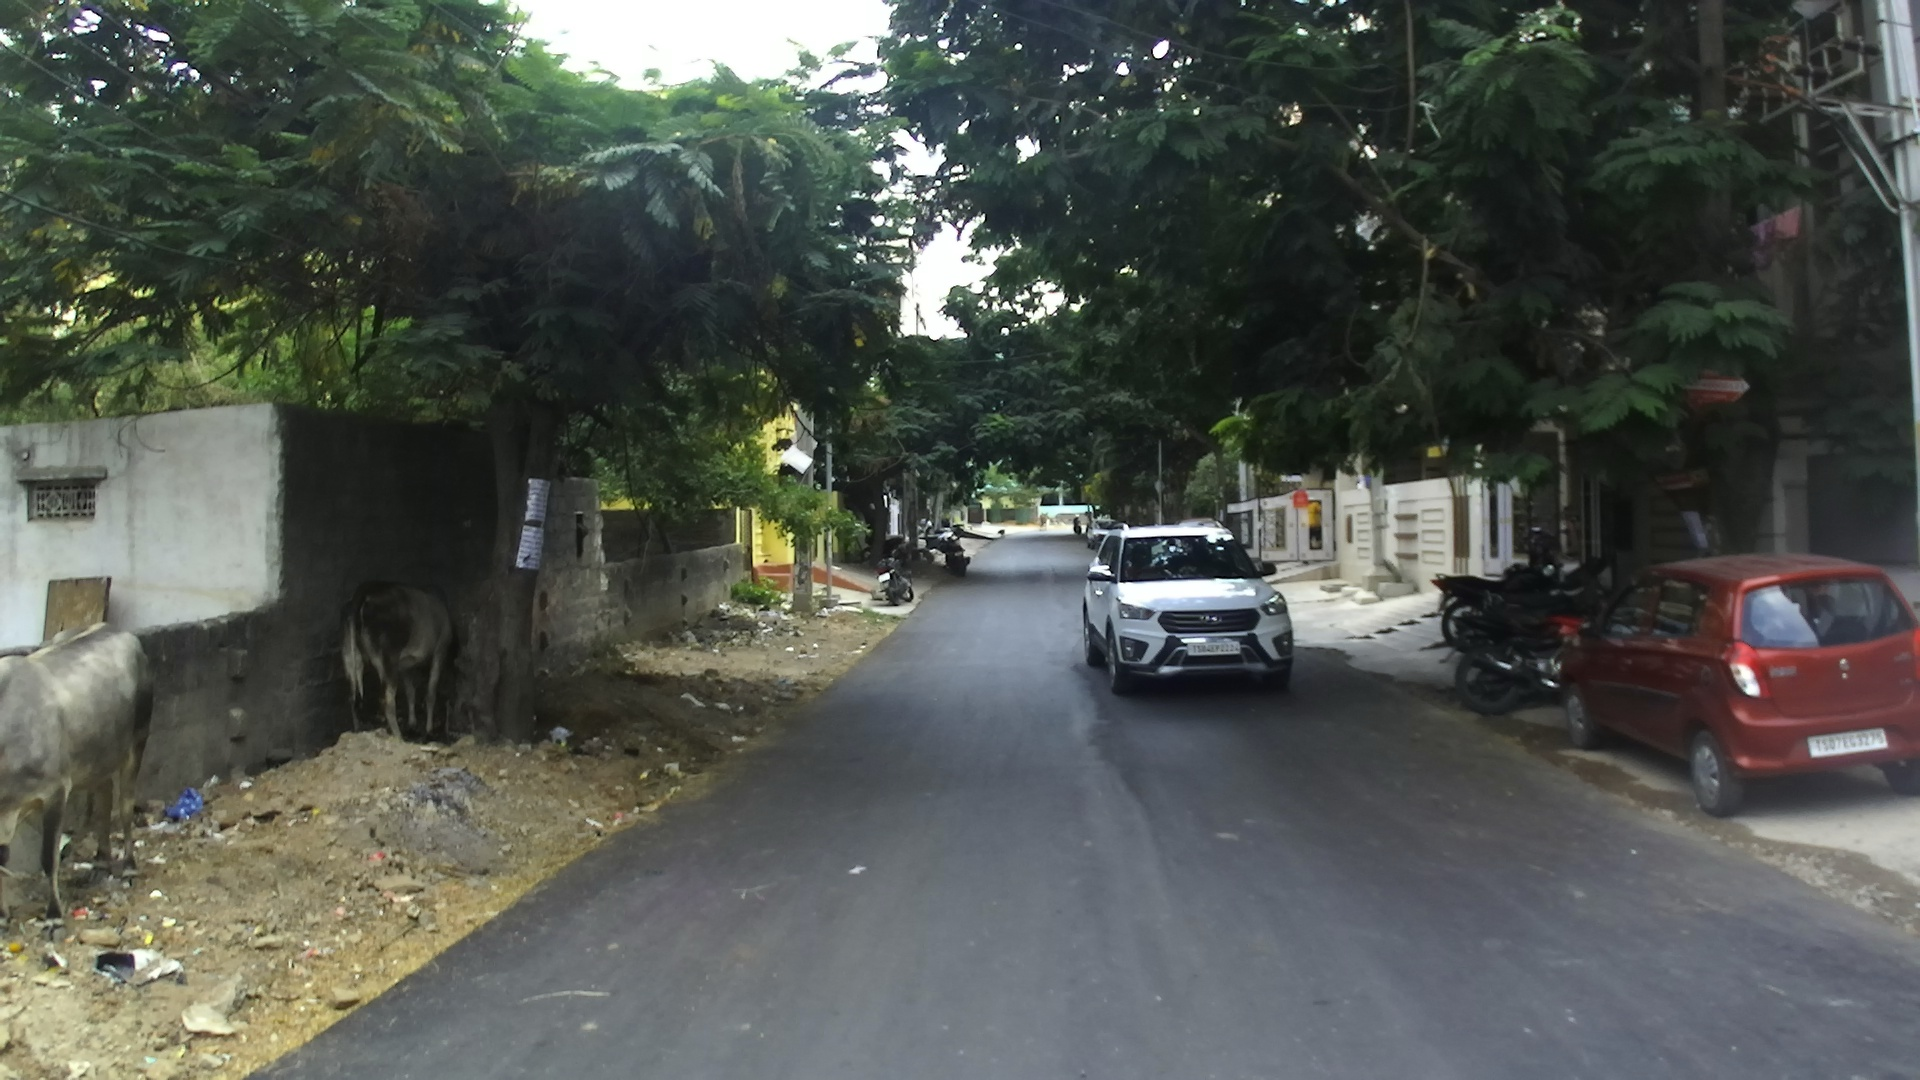vehicle: (1553, 551, 1920, 815), (1080, 522, 1295, 691), (1437, 550, 1633, 713), (920, 526, 971, 574)
